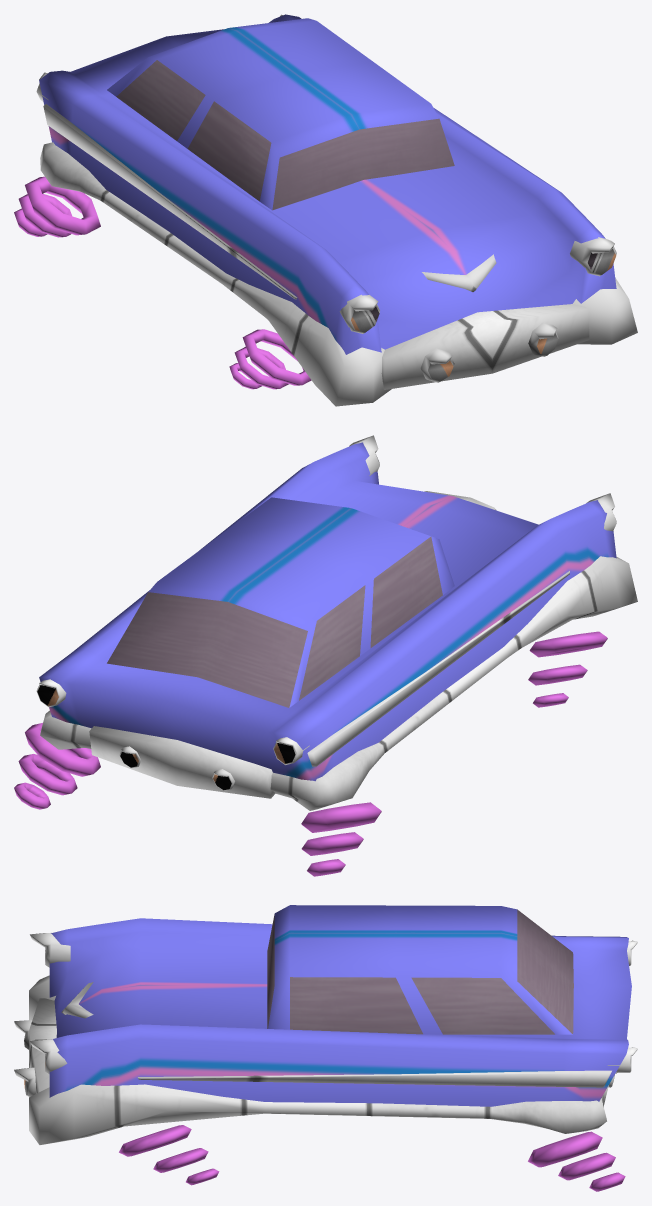
The model's file is SM_Car_01.fbx.
3 views of the same model, one above another, from view 1: azimuth 30°, elevation 25°; view 2: azimuth 150°, elevation 25°; view 3: azimuth 270°, elevation 25° (orthographic). The views are drawn at different scales.
Parts seen in each view (by area): view 1: SM_Car_01; view 2: SM_Car_01; view 3: SM_Car_01.
Boxes of the visible parts, x1,y1,x2,y2 form: SM_Car_01: (14,14,637,406); SM_Car_01: (14,435,637,876); SM_Car_01: (14,905,637,1191).
Size of the model in its own units: 732 by 1199 by 410.
